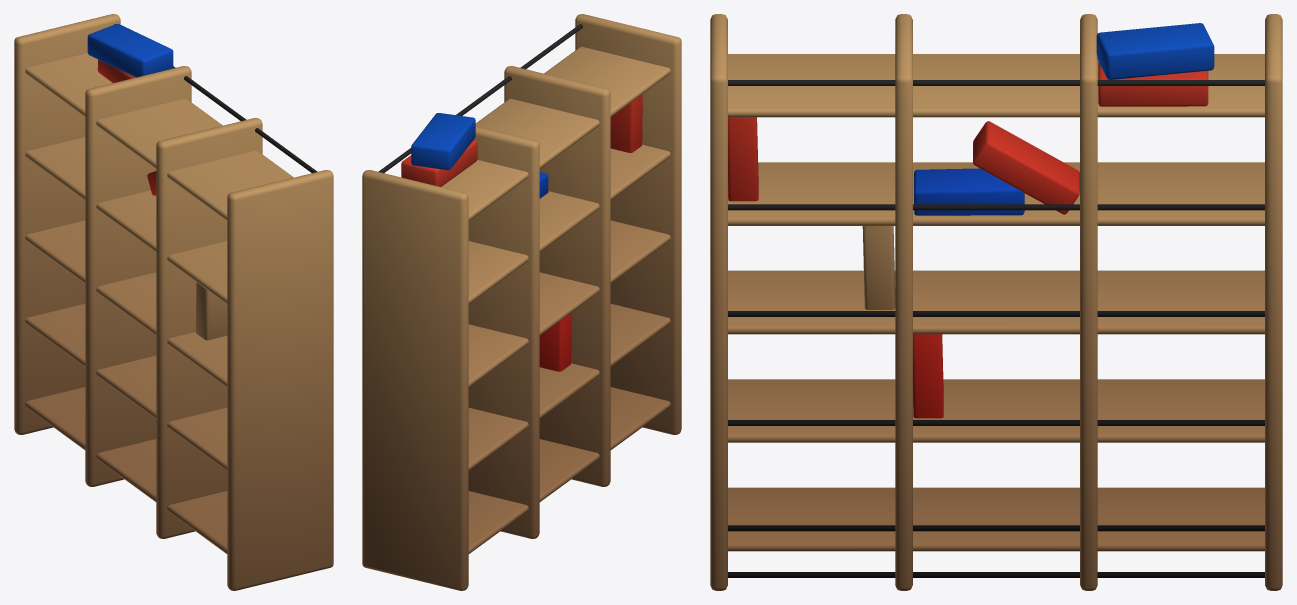
Rendered from SM_kitaplık.fbx.
3 renders of one model, left to right at view 1: azimuth 30°, elevation 25°; view 2: azimuth 150°, elevation 25°; view 3: azimuth 270°, elevation 25°, orthographic. The views are drawn at different scales.
Visible parts, largest first — view 1: Cube.011; view 2: Cube.011; view 3: Cube.011.
Part boxes in pixels (<box>): Cube.011: <box>14,14,333,590</box>; Cube.011: <box>362,14,681,590</box>; Cube.011: <box>710,14,1282,590</box>.
Bounding box in the file's own units: 65.52 × 248 × 241.
